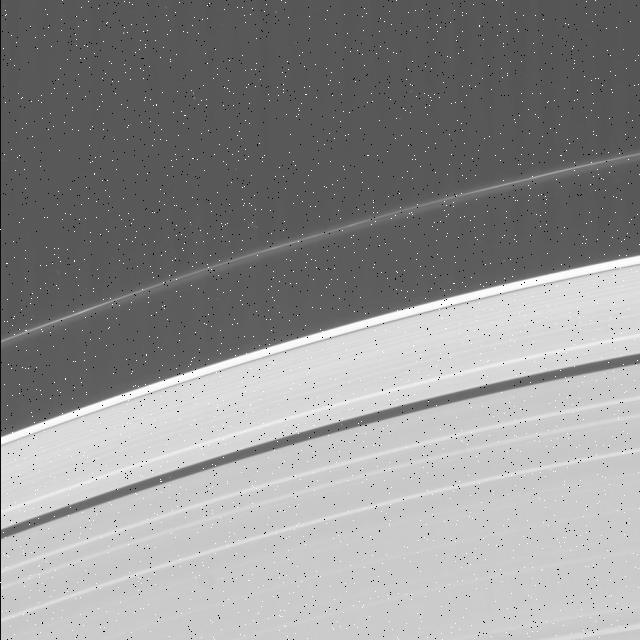Saturn: (0, 148, 640, 640)
